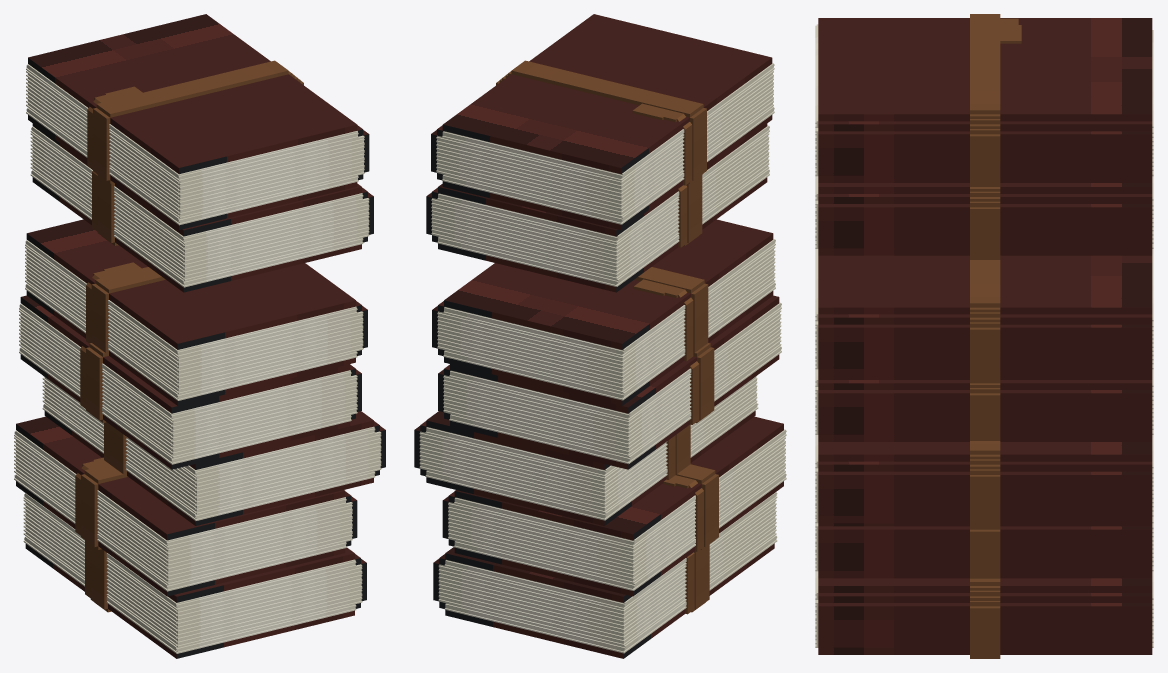
The model's file is stack_of_books_7_3.gltf.
3 views of the same model, side by side, from view 1: azimuth 30°, elevation 25°; view 2: azimuth 150°, elevation 25°; view 3: azimuth 270°, elevation 25° (orthographic). The views are drawn at different scales.
Visible parts, largest first — view 1: cube (×156); view 2: cube (×204); view 3: cube (×44).
Part boxes in pixels (left/top/right/bottom): cube (×156): left=14, top=14, right=381, bottom=658; cube (×204): left=419, top=14, right=786, bottom=658; cube (×44): left=818, top=14, right=1152, bottom=654.
Size of the model in its own units: 0.5938 by 1.25 by 0.6969.
Materials: 3 (3 with a texture image).
